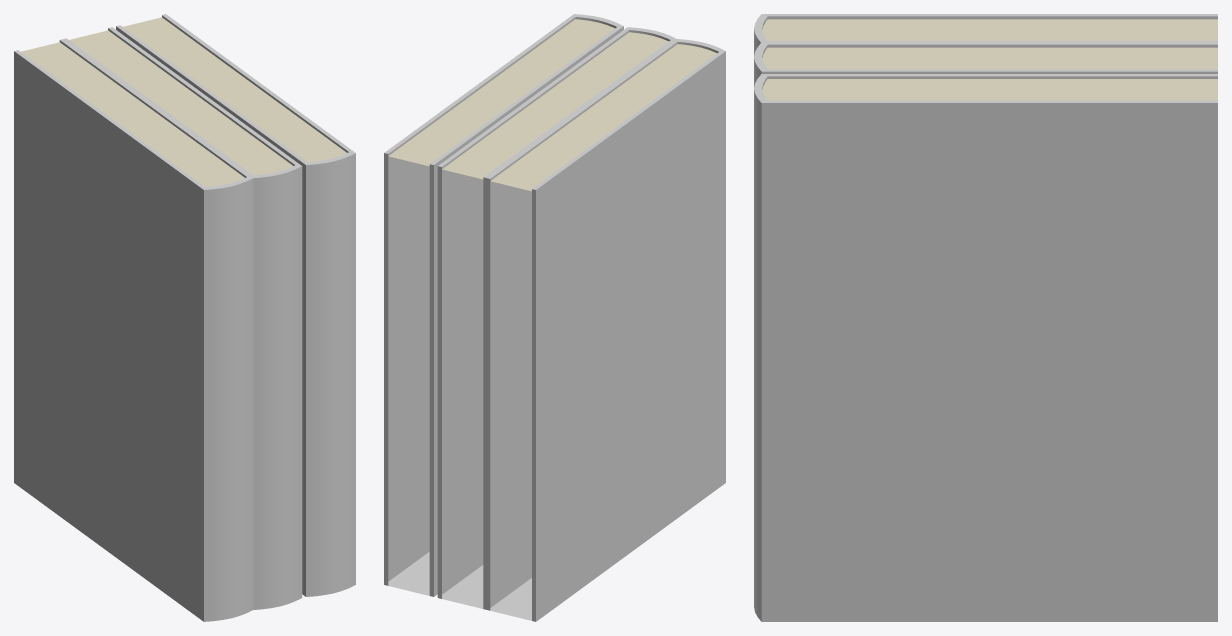
Rendered from SM_Book.fbx.
3 renders of one model, left to right at view 1: azimuth 30°, elevation 25°; view 2: azimuth 150°, elevation 25°; view 3: azimuth 270°, elevation 25°, orthographic. The views are drawn at different scales.
Parts seen in each view (by area): view 1: SM_Book_Straight; view 2: SM_Book_Straight; view 3: SM_Book_Straight.
Part boxes in pixels (x1,y1,x2,y2): SM_Book_Straight: (14,14,355,621); SM_Book_Straight: (384,14,725,621); SM_Book_Straight: (754,14,1217,621).
Bounding box in the file's own units: 9 × 24.44 × 19.81.
